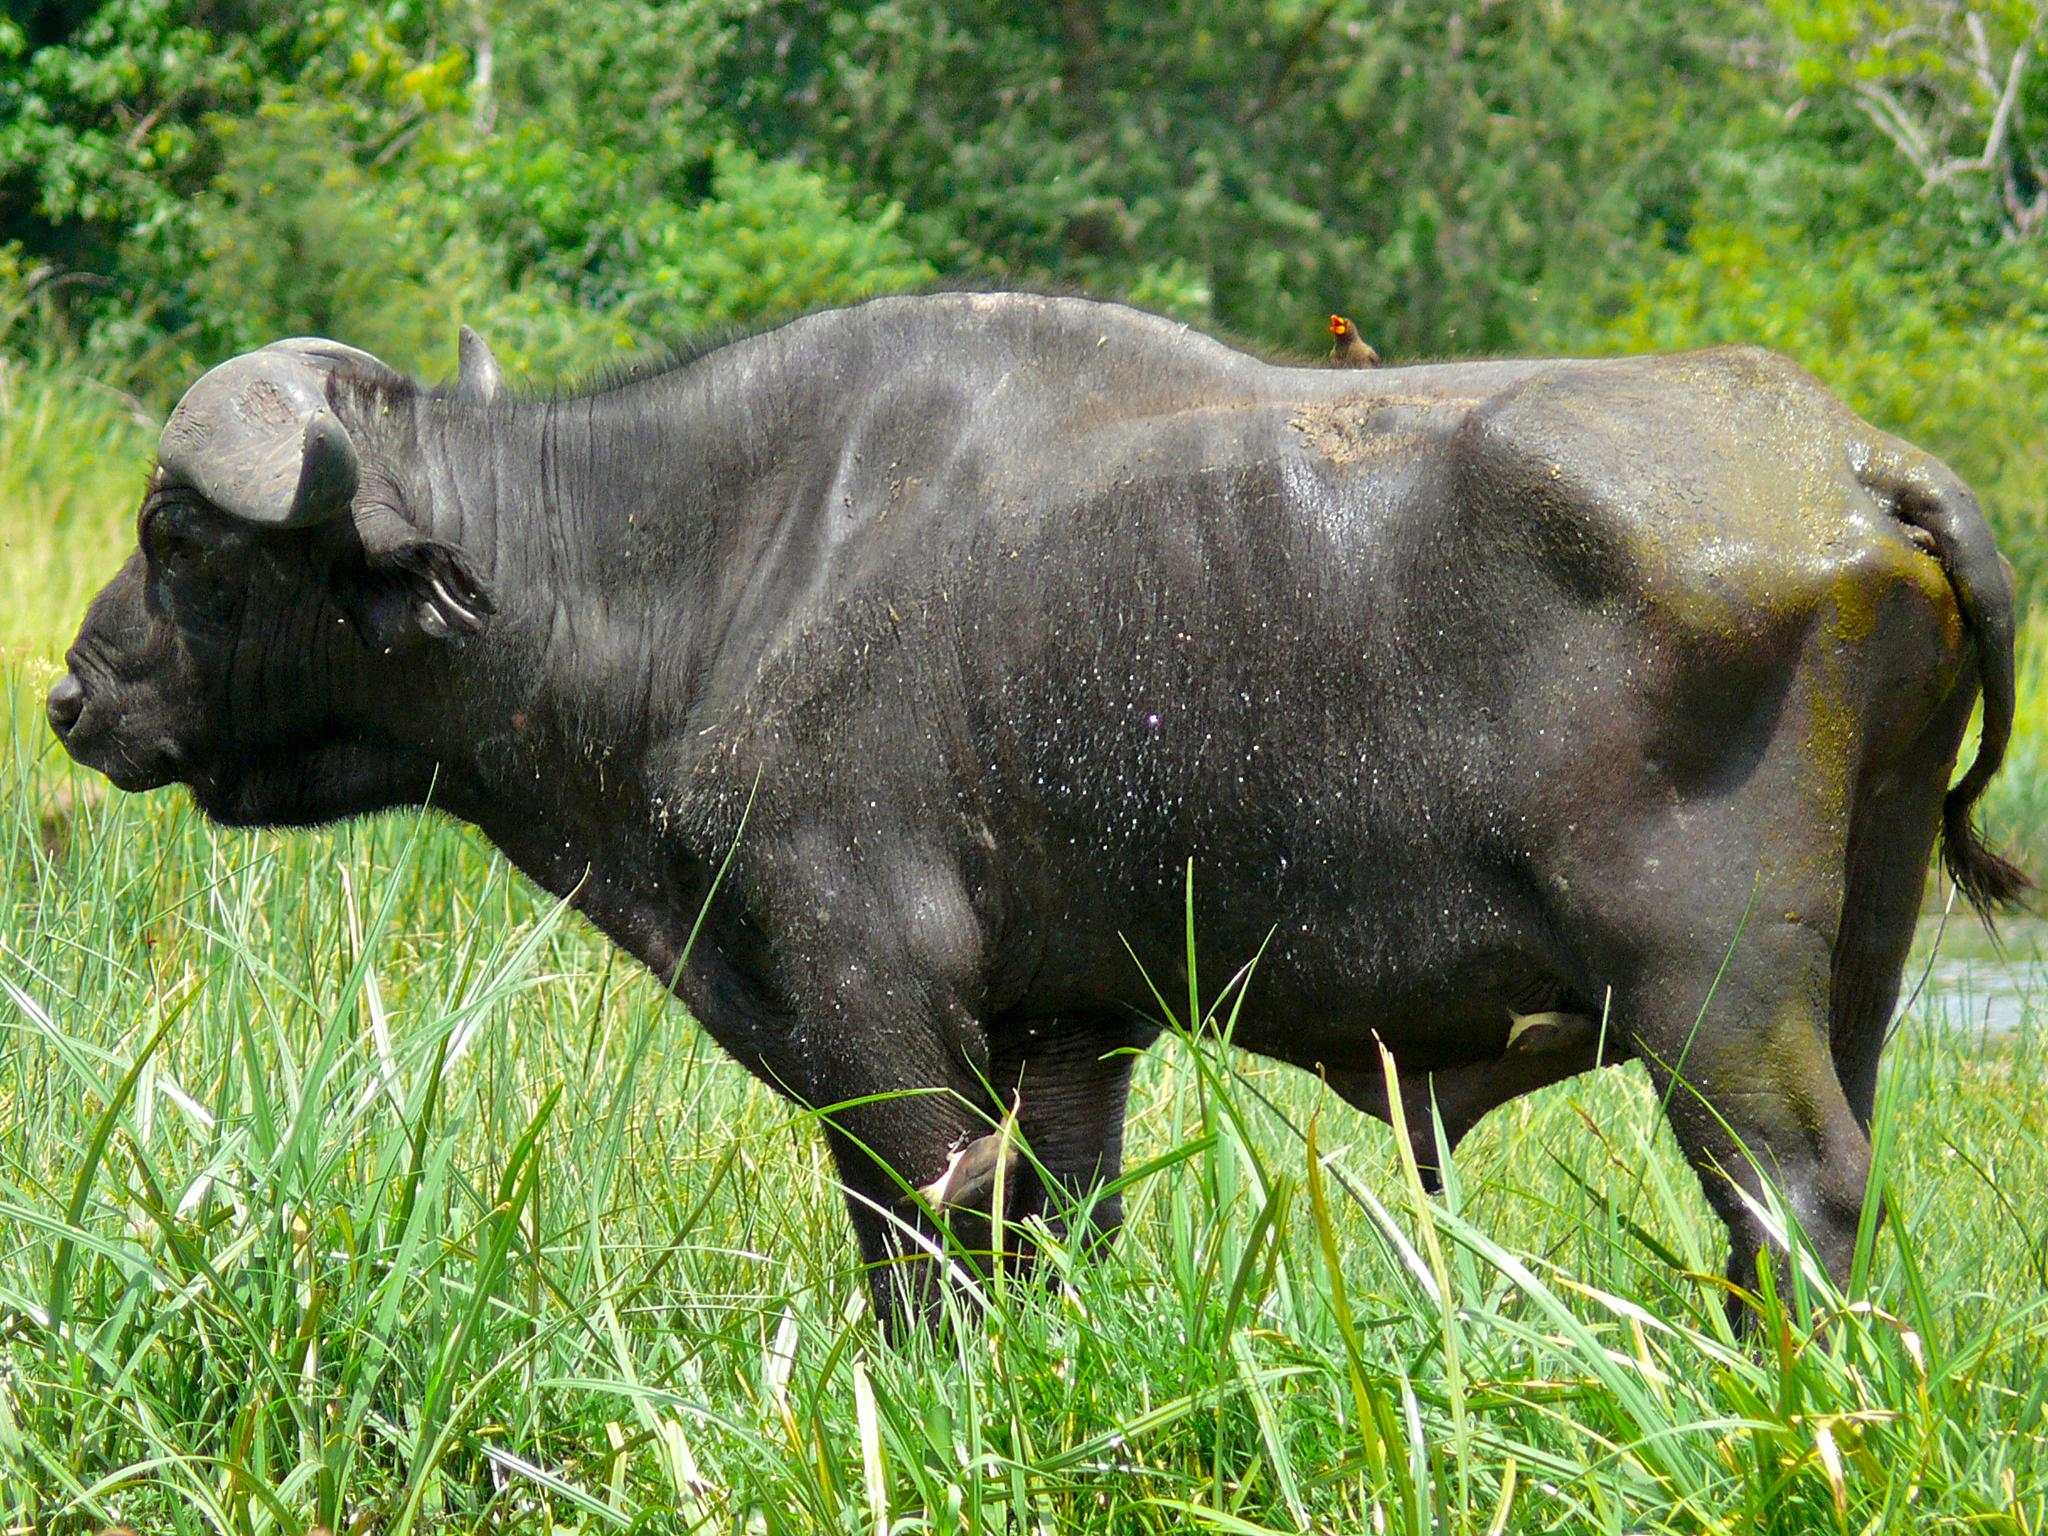Buffalo: (23, 48, 2048, 1402)
